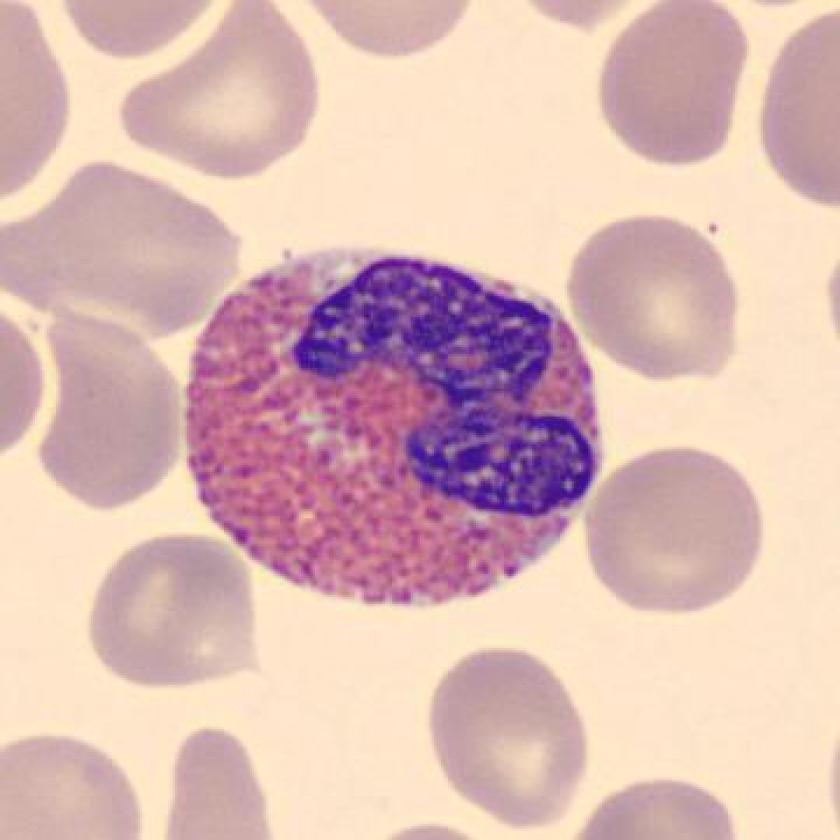eosinophil: (174, 235, 619, 619)
